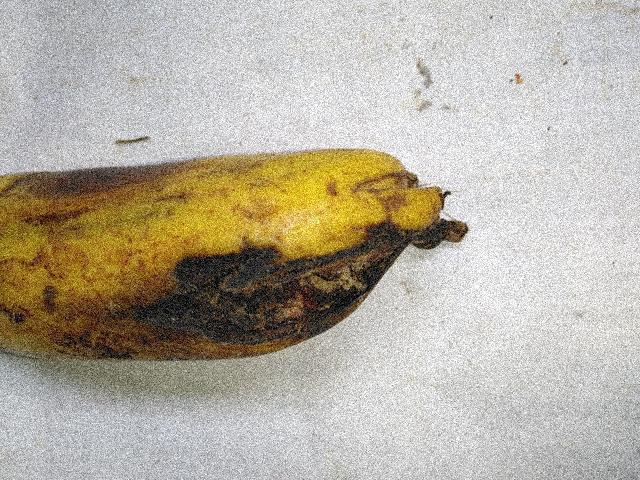ripe: (0, 117, 444, 408)
rotten: (103, 227, 462, 402), (0, 84, 215, 216)
